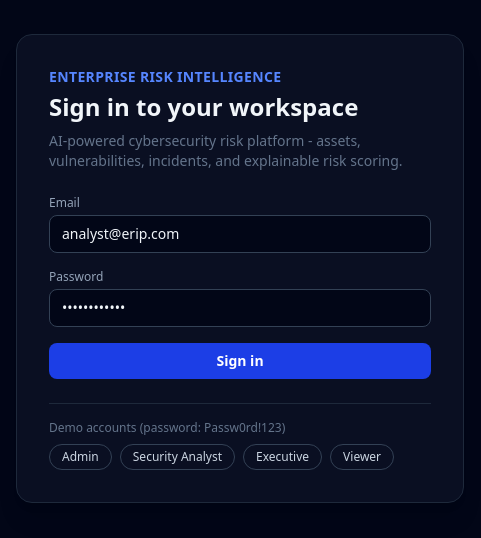
Scenario: LoginPage › shows an error message when login fails
The image size is (481, 538).
Step 1. Click the button "Sign in" → x=240, y=360, box [49,342,431,378]
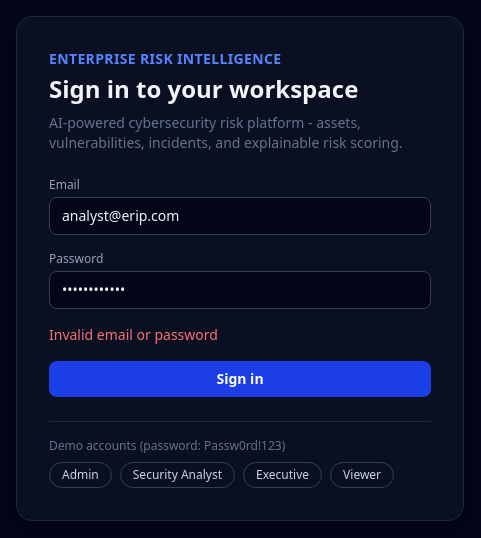
Check: the text "Invalid email or password" is shown, box [49,324,218,344]
